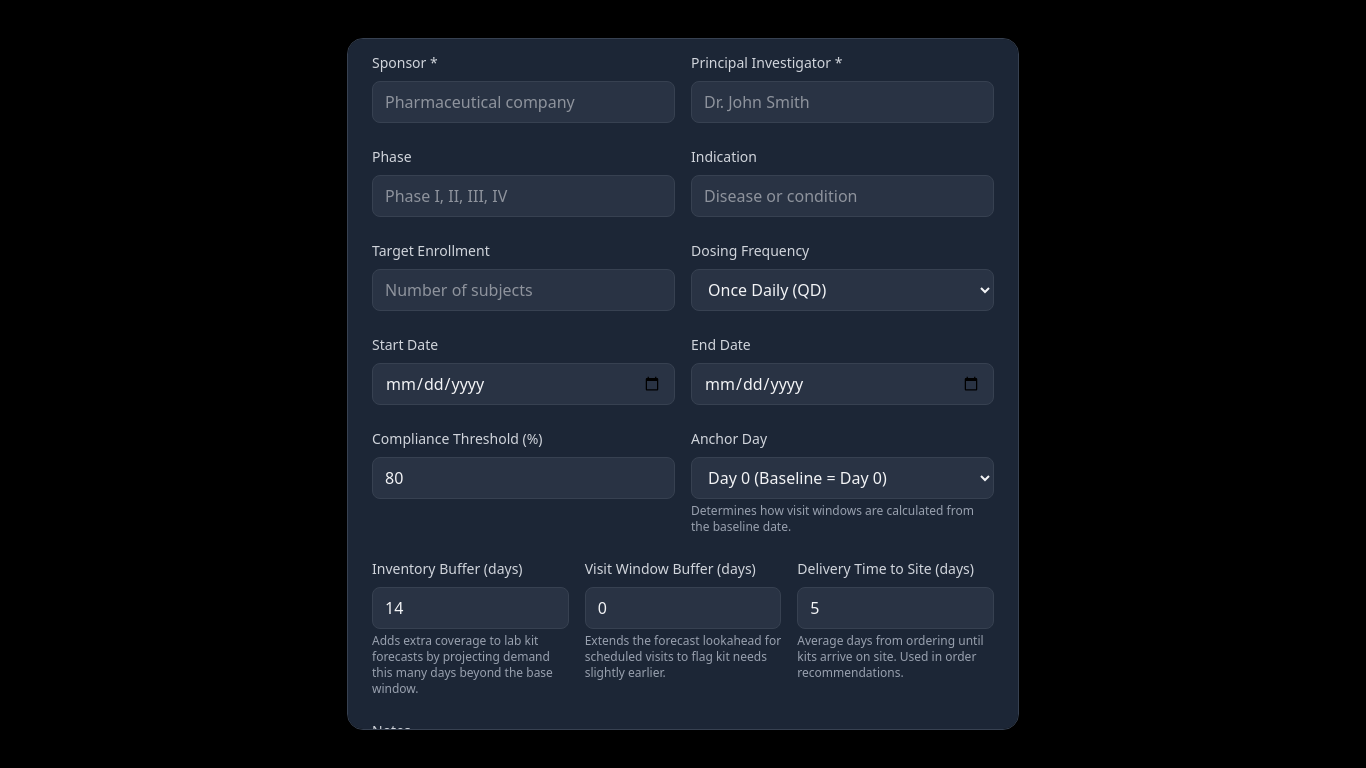
AddStudyForm › validates date logic (end date after start date)
(page scrolled)
Type "2024-12-31" into the date field named "start_date" below "Start Date" at (524, 384), box [372,363,675,405]
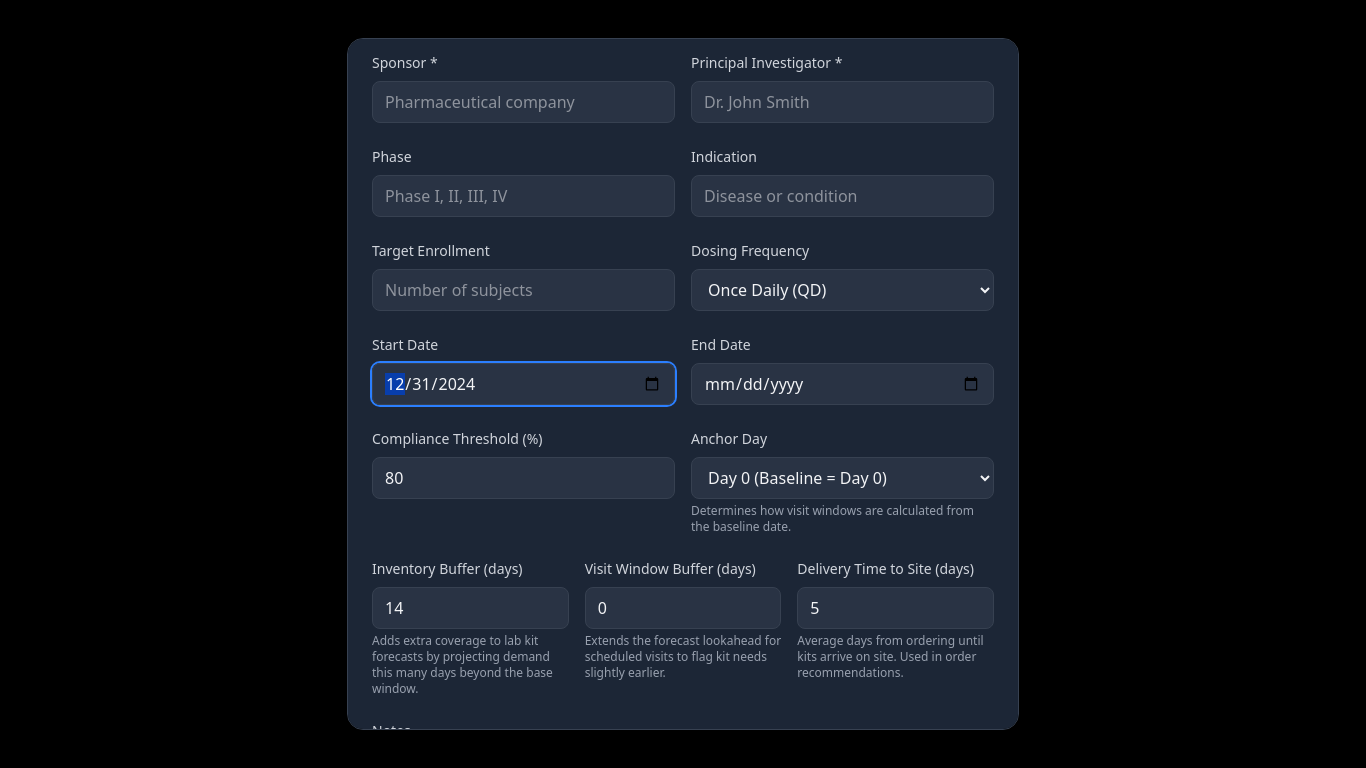
Type "2024-01-01" into the date field named "end_date" below "End Date" at (842, 384), box [691,363,994,405]
(page scrolled)
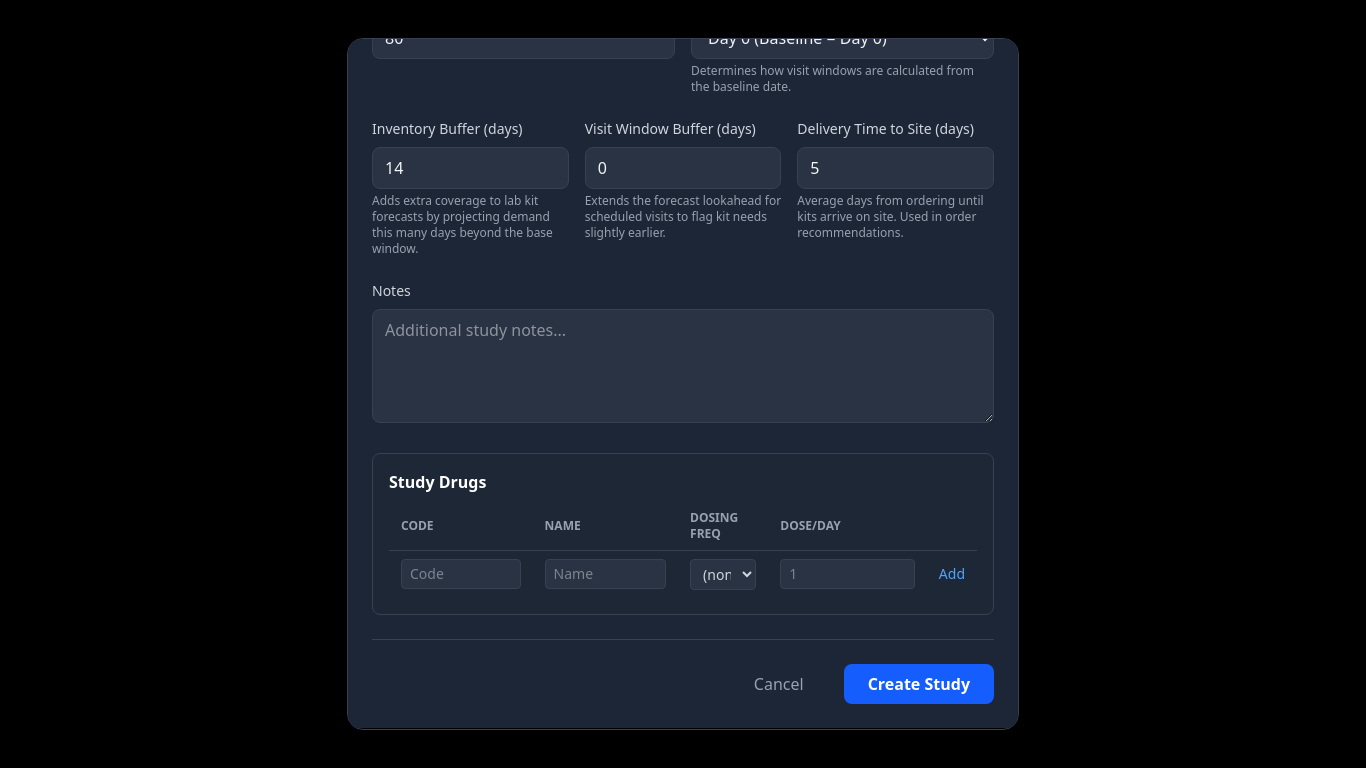
Click the button "Create Study" at (919, 684), box [844,664,994,704]
(page scrolled)
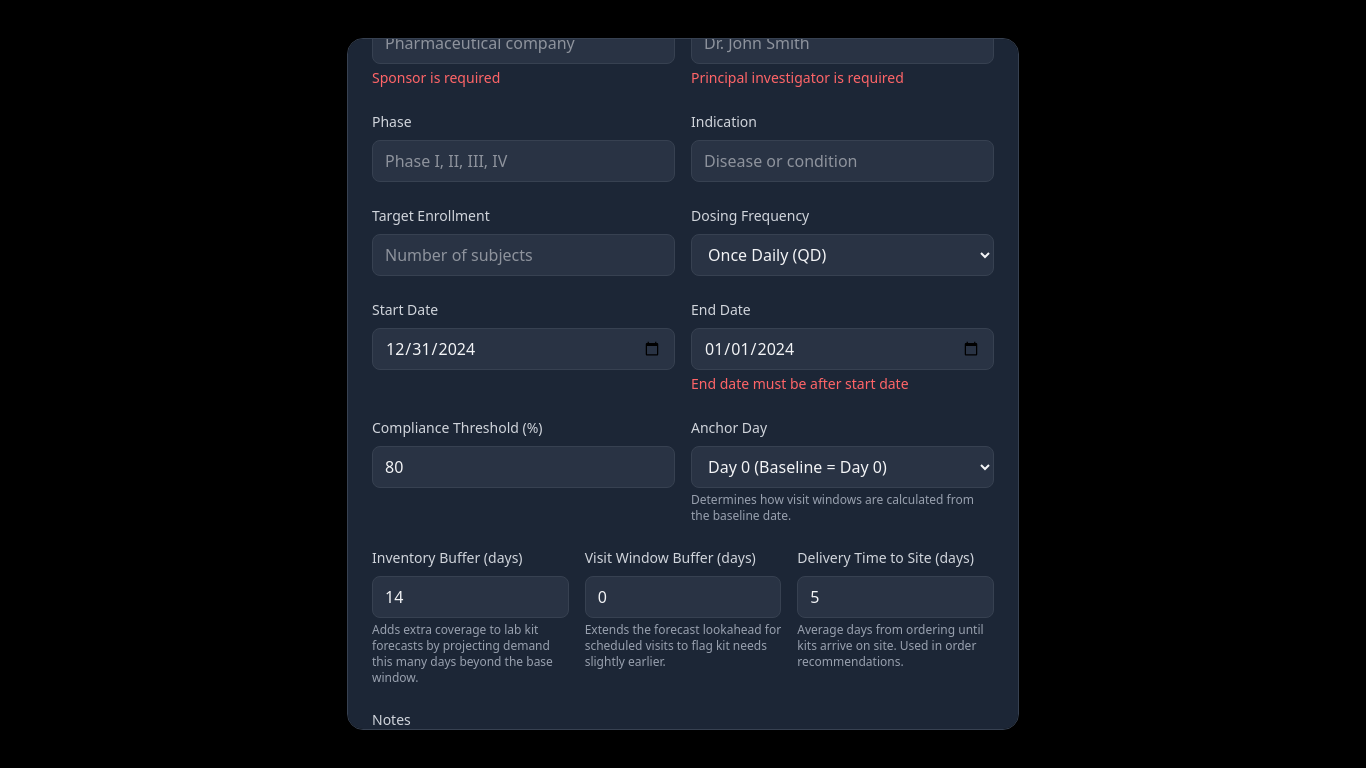
Expected: the text "End date must be after start date" is shown, [691,374,909,393]
